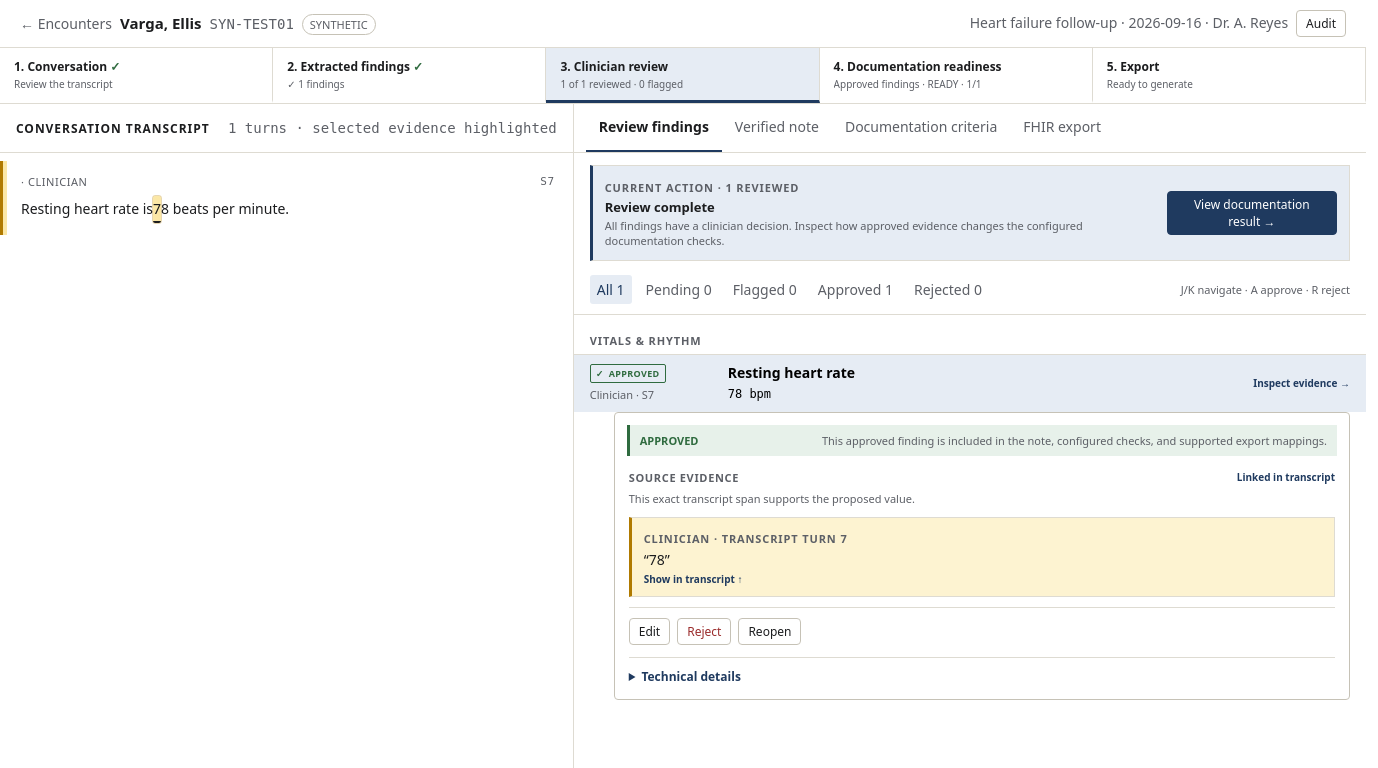
Test case: CardioFlow encounter workspace › keeps finding technical details available through disclosure
Expected: the text "Evidence offset" is not shown
Click the heading "Technical details".
click(691, 676)  # box [641,668,741,685]
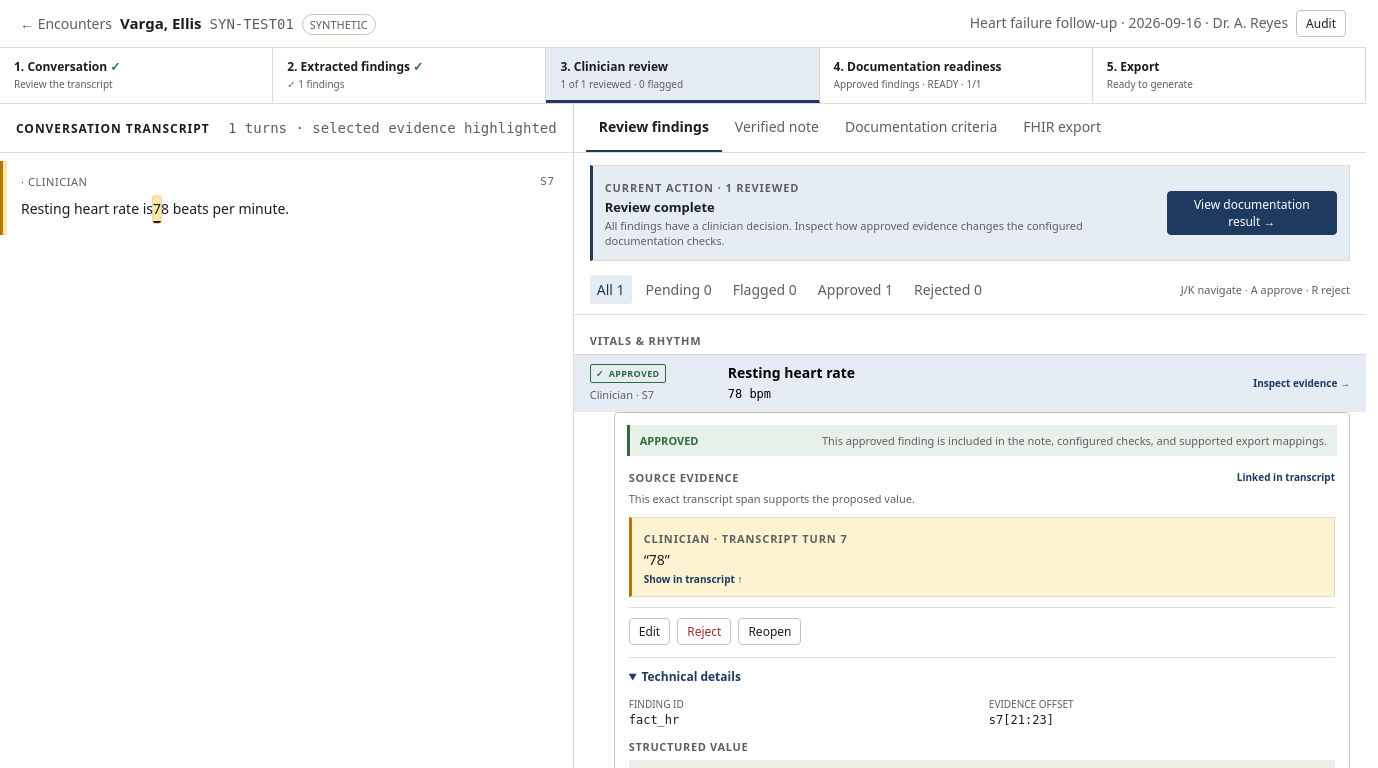
Expected: the text "Evidence offset" is shown, [989,697,1074,711]
Expected: the text "s7[21:23]" is shown, [989,713,1054,727]
